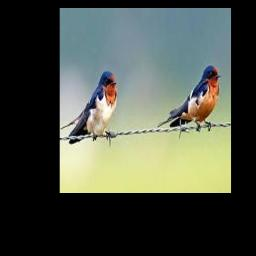Swallow: (157, 64, 222, 130), (61, 71, 118, 144)
